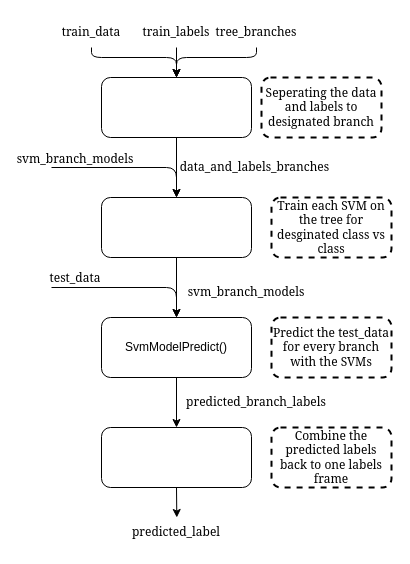
Image size: 410x564. Some labels were removed from this diagram. The centre of each missing label's shape, as x and y in pixels:
"BranchDataLabels()" belongs at (x=176, y=107).
"CombineLabels()" belongs at (x=176, y=457).
"SvmBranchModelTrain()" belongs at (x=176, y=227).
